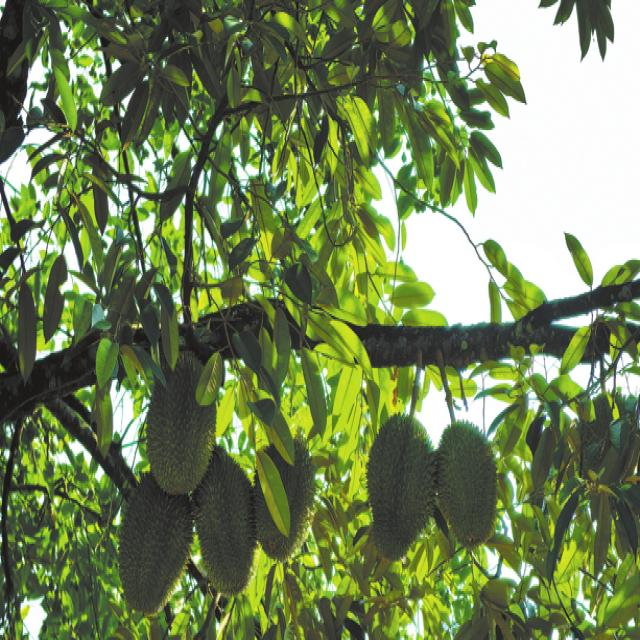immature: (362, 411, 436, 564), (118, 474, 196, 619), (150, 345, 223, 498), (192, 454, 259, 602), (434, 418, 498, 550)
